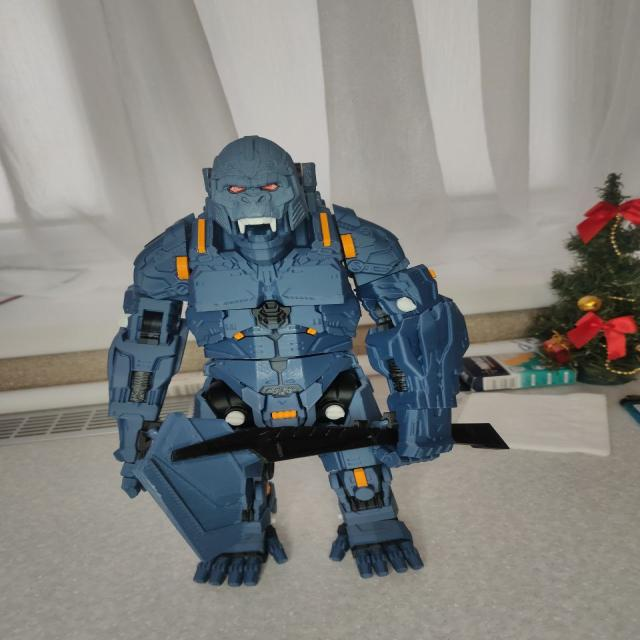Without deffect: (95, 127, 502, 588)
